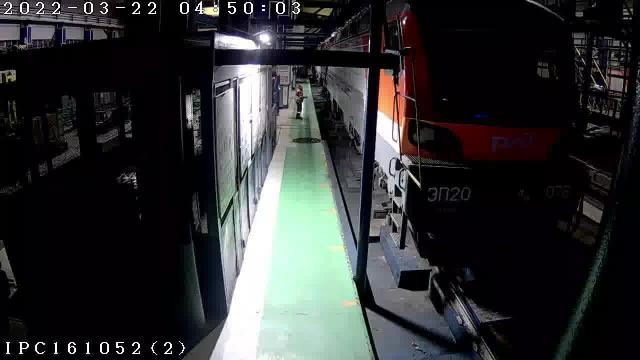person: (296, 86, 305, 118)
train: (375, 0, 585, 265)
